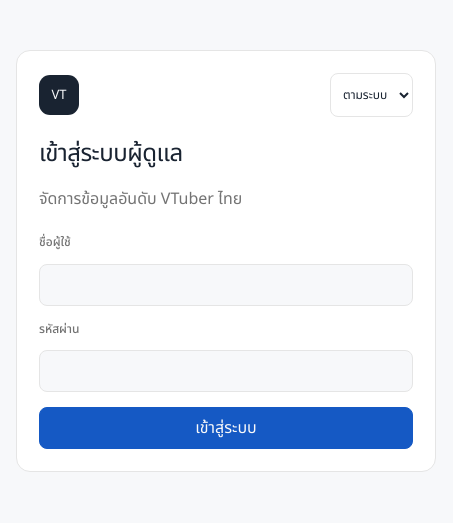
Test: Admin login journey › shows login failures visibly
This screenshot has width=453, height=523.
Type "staff" into the field labelled "ชื่อผู้ใช้" at {"x": 226, "y": 285}, box [39,264,413,306]
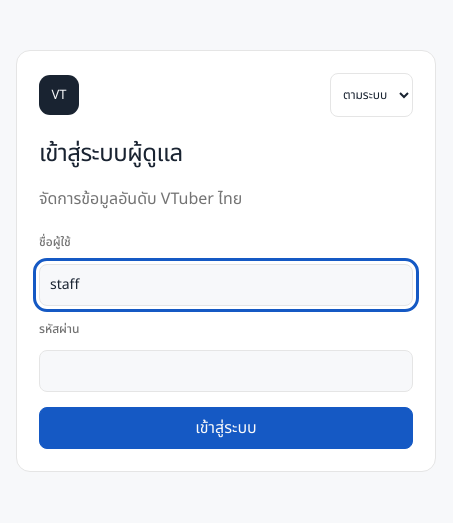
Type "wrong-password" into the password field labelled "รหัสผ่าน" at {"x": 226, "y": 371}, box [39,350,413,392]
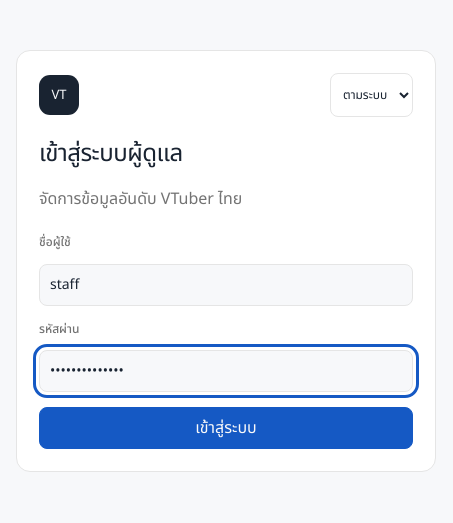
Click the button "เข้าสู่ระบบ" at {"x": 226, "y": 428}, box [39,407,413,449]
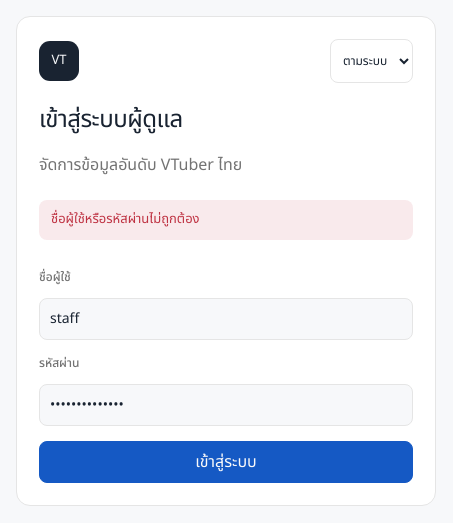
Check: the text "ชื่อผู้ใช้หรือรหัสผ่านไม่ถูกต้อง" is shown, box [39,200,413,240]
